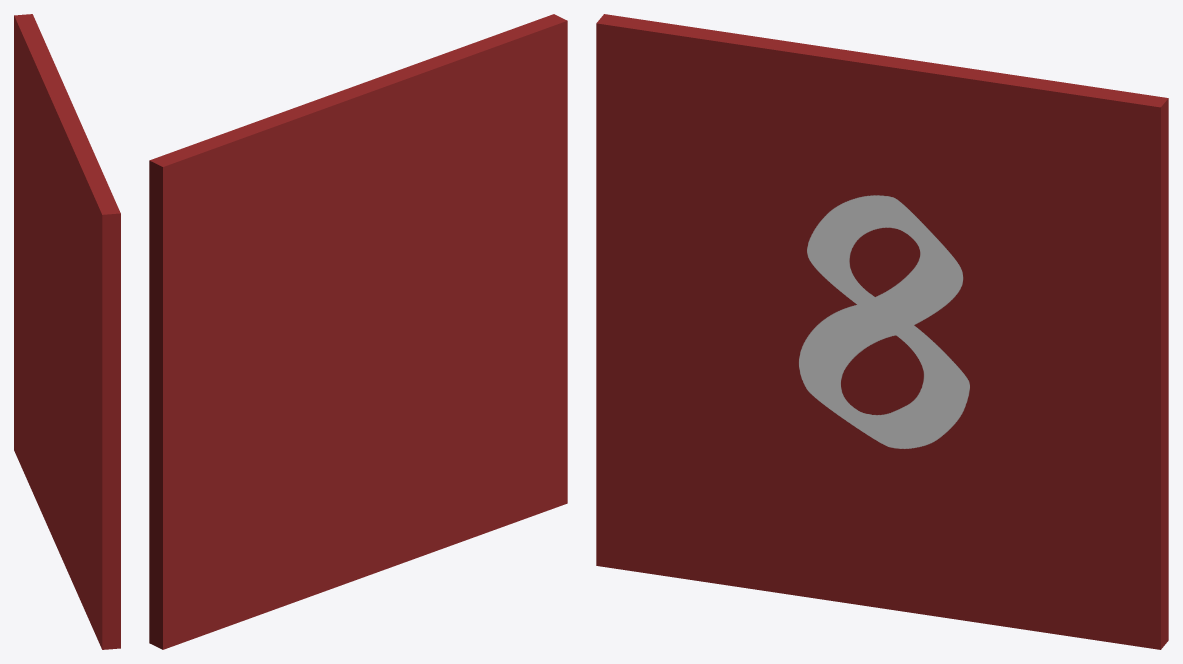
Rendered from flap07.glb.
The picture shows the model from 3 angles, left to right: view 1: azimuth 30°, elevation 25°; view 2: azimuth 150°, elevation 25°; view 3: azimuth 270°, elevation 25°; orthographic projection. The views are drawn at different scales.
Visible parts, largest first — view 1: flap.007; view 2: flap.007; view 3: flap.007.
Part boxes in pixels (x1,y1,x2,y2): flap.007: (14, 14, 120, 649); flap.007: (149, 14, 567, 649); flap.007: (596, 14, 1168, 649).
Size of the model in its own units: 0.0924 by 0.25 by 0.239.
1 material, 1 textured.
